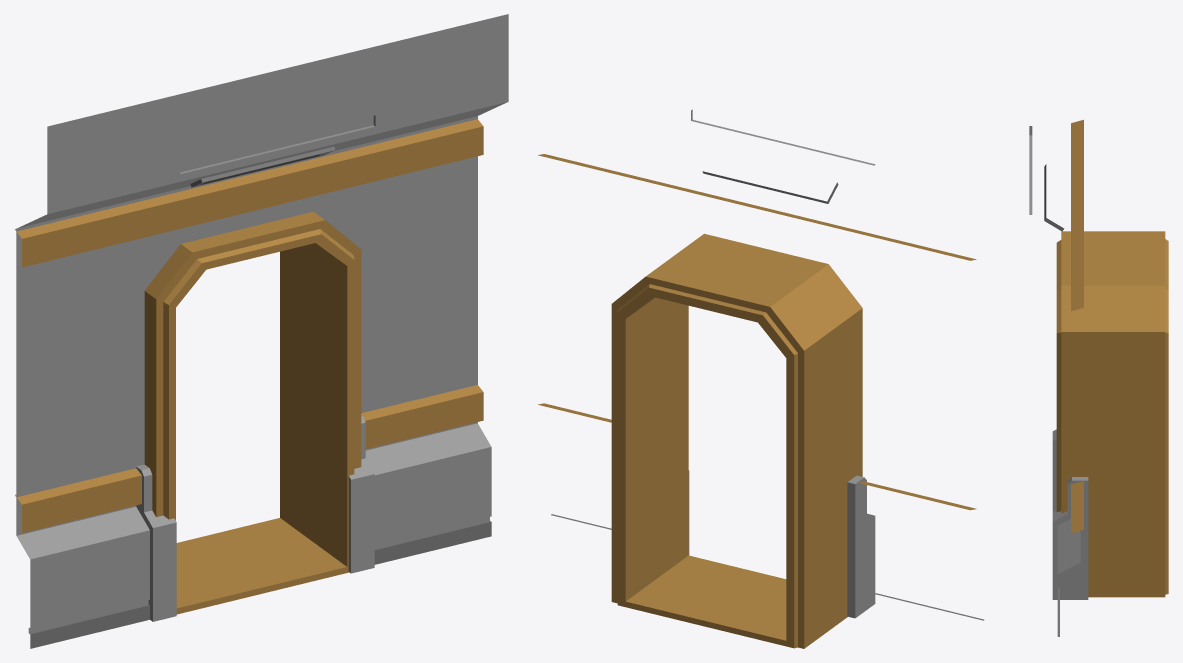
The model's file is DoorSingle_Wall_SideA.glb.
The picture shows the model from 3 angles, left to right: view 1: azimuth 30°, elevation 25°; view 2: azimuth 150°, elevation 25°; view 3: azimuth 270°, elevation 25°; orthographic projection. The views are drawn at different scales.
Visible parts, largest first — view 1: DoorSingle_Wall_SideA_Plane.313; view 2: DoorSingle_Wall_SideA_Plane.313; view 3: DoorSingle_Wall_SideA_Plane.313.
Part boxes in pixels (box(x1,y1,x2,y2)): DoorSingle_Wall_SideA_Plane.313: box(14, 14, 508, 648); DoorSingle_Wall_SideA_Plane.313: box(538, 109, 984, 648); DoorSingle_Wall_SideA_Plane.313: box(1029, 119, 1168, 636).
Bounding box in the file's own units: 4 × 4.44 × 1.25.
